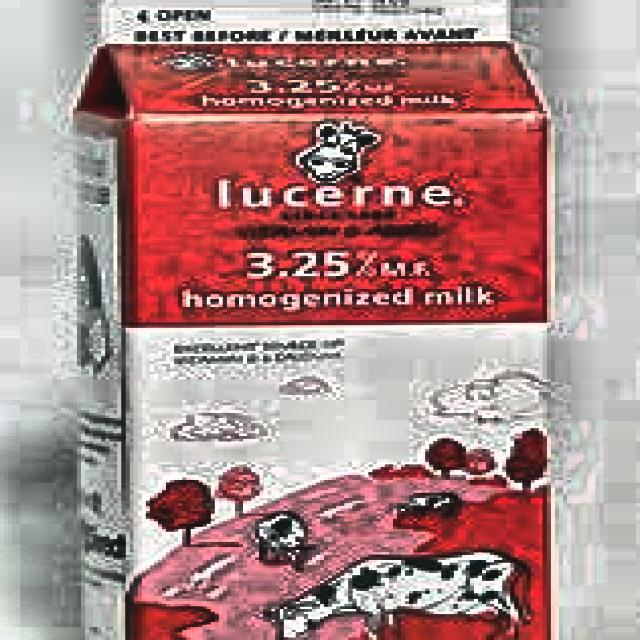cardboard: (69, 2, 559, 640)
